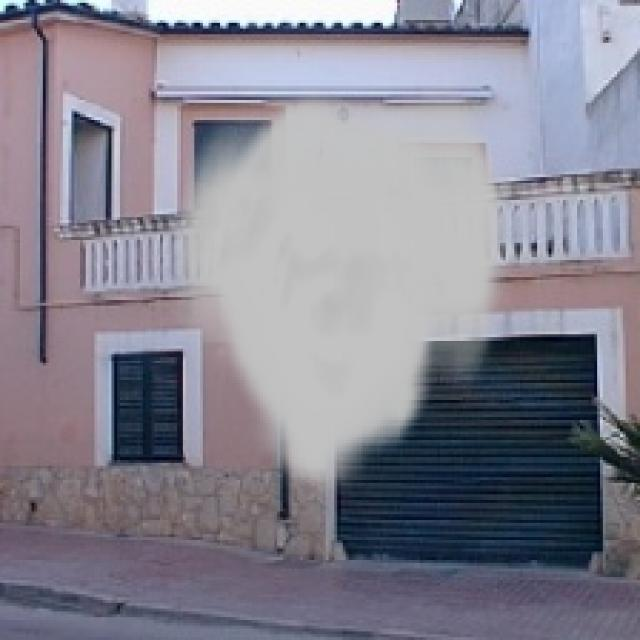smoke: (163, 89, 511, 497)
